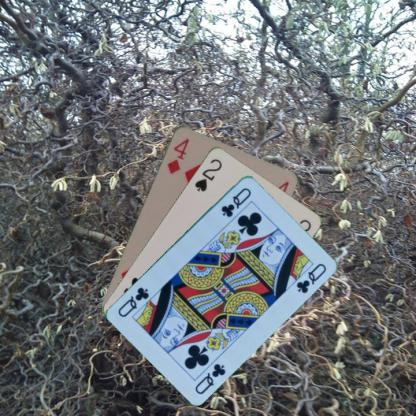2s: (192, 156, 224, 192)
4d: (164, 135, 190, 175)
Qc: (192, 361, 227, 395), (219, 184, 252, 218)
